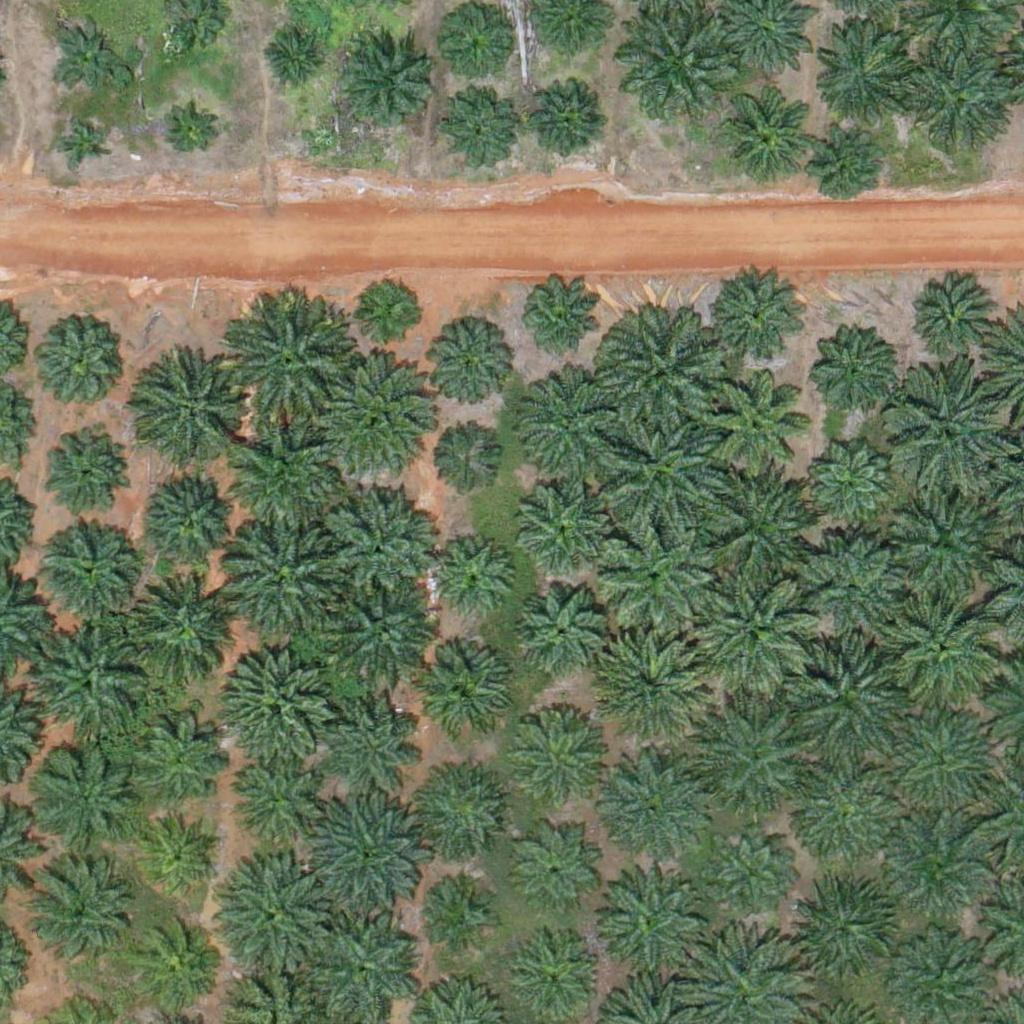Kelapa_Sawit: (890, 369, 1015, 495), (698, 570, 823, 696), (597, 310, 722, 436), (227, 305, 352, 431), (601, 404, 726, 529), (591, 632, 704, 746), (327, 360, 440, 474), (123, 573, 236, 687), (886, 710, 999, 823), (889, 594, 1002, 707), (787, 641, 900, 754), (701, 703, 814, 816), (602, 517, 715, 630), (595, 866, 708, 979), (516, 365, 629, 478), (309, 795, 422, 908), (230, 423, 343, 536), (221, 524, 334, 637), (218, 644, 331, 757), (116, 704, 229, 817), (904, 49, 1017, 162), (618, 2, 731, 115), (226, 862, 338, 976), (28, 738, 140, 852), (25, 854, 137, 968), (883, 488, 995, 601), (786, 757, 898, 870), (703, 470, 815, 583), (593, 755, 705, 868), (327, 575, 439, 688), (322, 488, 434, 601), (33, 629, 145, 742), (889, 820, 989, 921), (803, 536, 903, 637), (710, 379, 810, 480), (708, 268, 808, 369), (325, 682, 425, 783), (145, 466, 245, 567), (29, 310, 129, 411), (814, 20, 914, 121), (334, 33, 434, 134), (414, 644, 514, 744), (140, 364, 240, 464), (42, 520, 142, 620), (424, 322, 512, 411), (135, 812, 223, 900), (802, 884, 890, 972), (511, 934, 599, 1022), (515, 480, 603, 568), (425, 534, 513, 622), (224, 758, 312, 846), (127, 924, 215, 1012), (36, 426, 124, 514), (718, 90, 806, 178), (516, 276, 603, 364), (518, 710, 605, 798), (517, 584, 604, 672), (419, 765, 506, 853), (426, 427, 501, 503), (915, 285, 990, 361), (816, 333, 891, 409), (814, 450, 889, 526), (521, 836, 596, 912), (531, 87, 606, 163), (442, 91, 517, 167), (50, 17, 125, 92), (715, 826, 790, 901), (439, 14, 502, 77), (263, 32, 326, 95), (360, 279, 423, 342), (428, 884, 491, 947), (813, 131, 876, 194), (164, 109, 214, 160), (57, 118, 107, 169)
